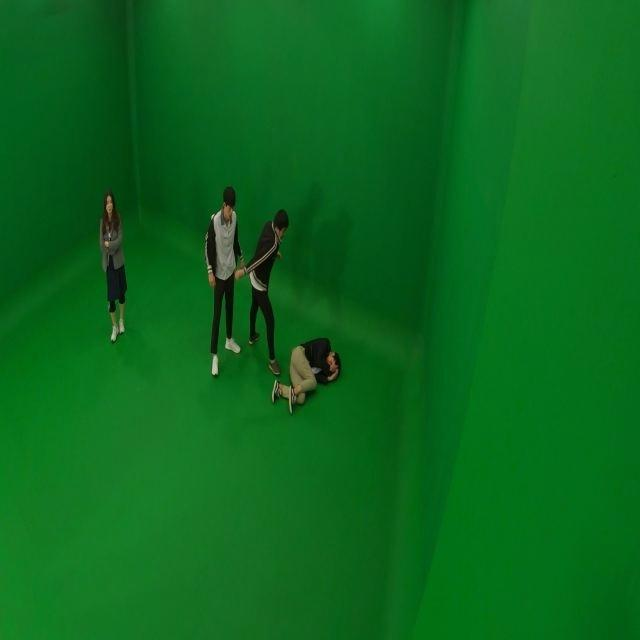fight: (236, 202, 343, 414)
non-fight: (203, 185, 246, 377), (100, 190, 131, 338)
